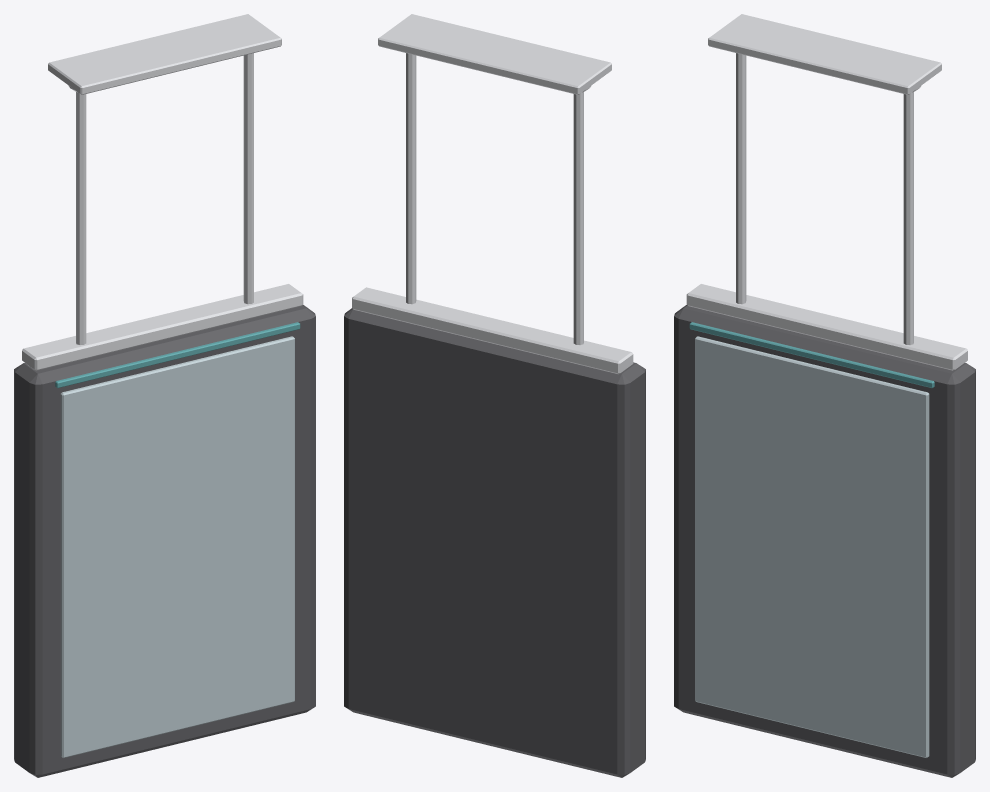
The model's file is fast-food-and-drive-thru-menu-board-single-4cf0ef0f__16208.glb.
3 views of the same model, side by side, from view 1: azimuth 30°, elevation 25°; view 2: azimuth 150°, elevation 25°; view 3: azimuth 330°, elevation 25° (orthographic).
Visible parts, largest first — view 1: menu-board-single; view 2: menu-board-single; view 3: menu-board-single.
Boxes of the visible parts, left/top/right/bottom form: menu-board-single: left=14, top=14, right=315, bottom=777; menu-board-single: left=344, top=14, right=645, bottom=777; menu-board-single: left=674, top=14, right=975, bottom=777.
Bounding box in the file's own units: 0.68 × 1.57 × 0.14.
